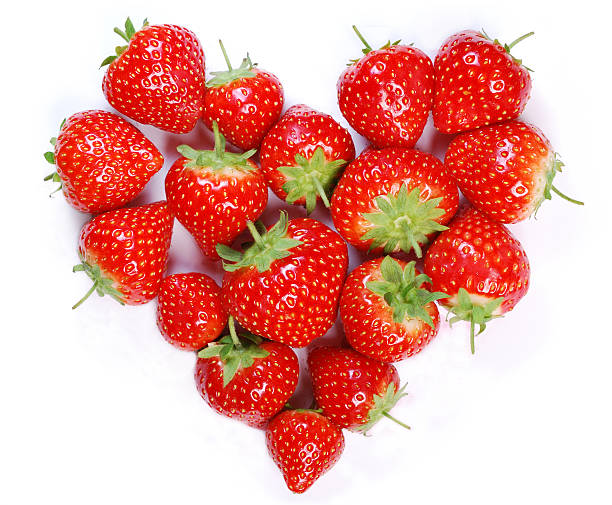Fresa: (222, 213, 357, 352), (331, 140, 461, 264), (423, 191, 533, 331), (167, 140, 275, 264), (442, 113, 557, 225), (102, 23, 208, 143), (427, 24, 535, 136), (53, 107, 166, 214), (334, 41, 439, 155), (261, 100, 363, 215), (75, 198, 177, 311), (340, 256, 443, 364), (189, 335, 303, 429), (306, 339, 411, 437), (198, 59, 290, 161), (264, 404, 346, 495), (153, 269, 230, 360)
